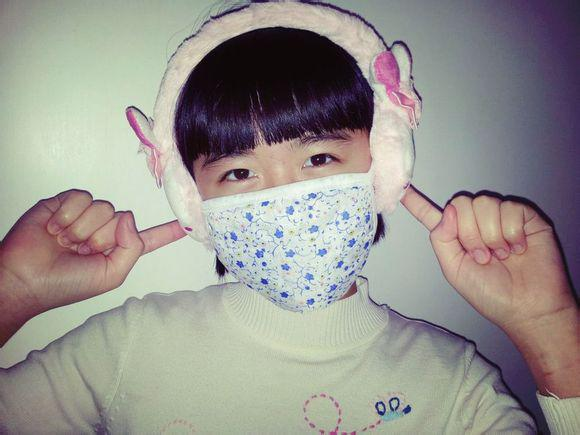OK: (205, 130, 373, 298)
